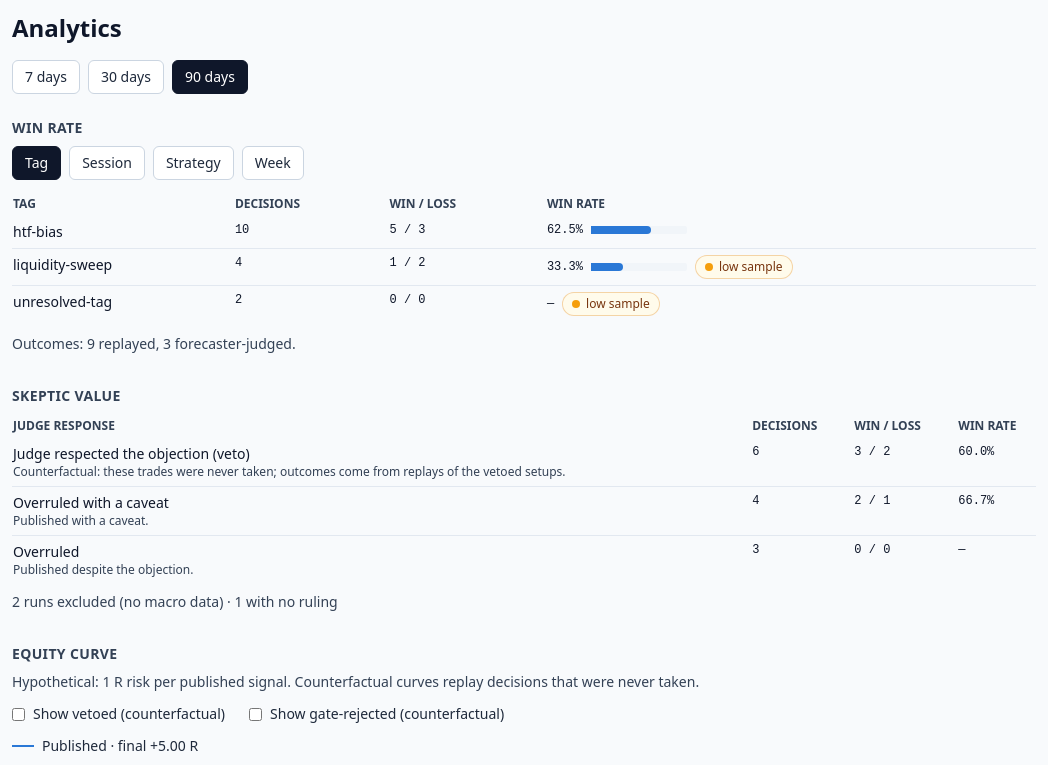
it: AnalyticsPage › starts with only the published curve; counterfactual curves appear when ticked
This screenshot has width=1048, height=765.
Expected: the heading "Equity curve" is shown, x1=12 y1=644 x2=117 y2=663
Expected: the list named "Legend" shows "Published", x1=42 y1=736 x2=198 y2=755
Click the checkbox labelled "Show vetoed (counterfactual)": (18, 714) x1=12 y1=708 x2=25 y2=720
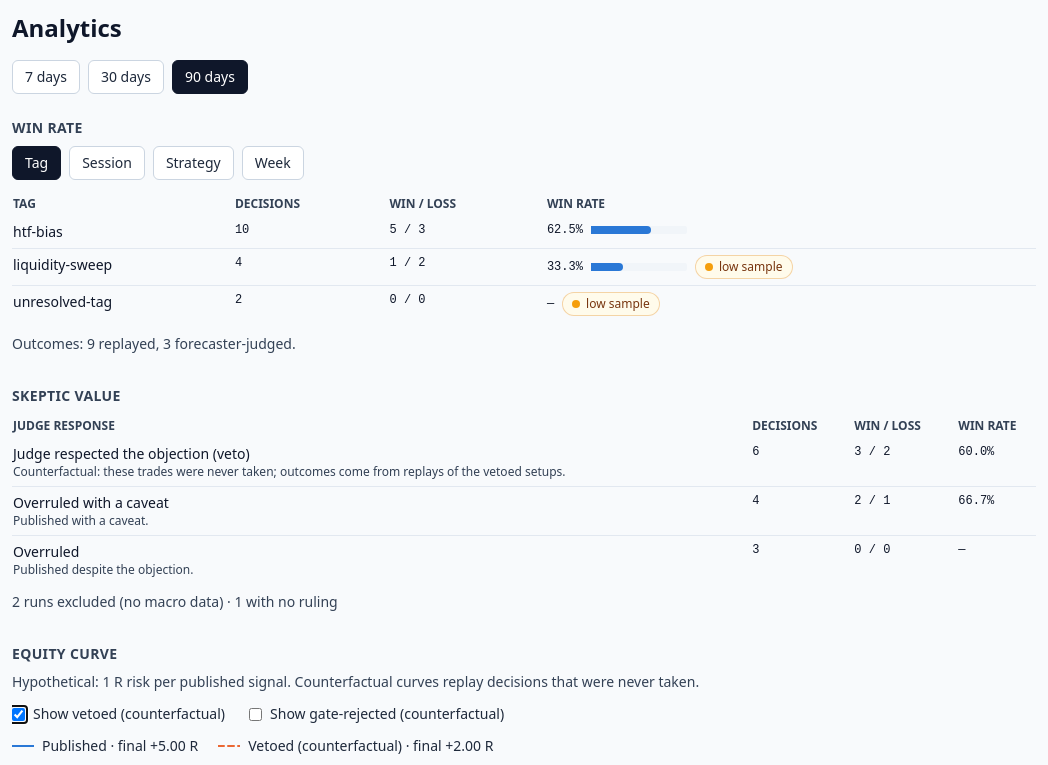
Expected: the list named "Legend" does not show "Gate-rejected", x1=12 y1=736 x2=493 y2=755
Result: the list named "Legend" shows "Vetoed (counterfactual)" at x1=248 y1=736 x2=493 y2=755
